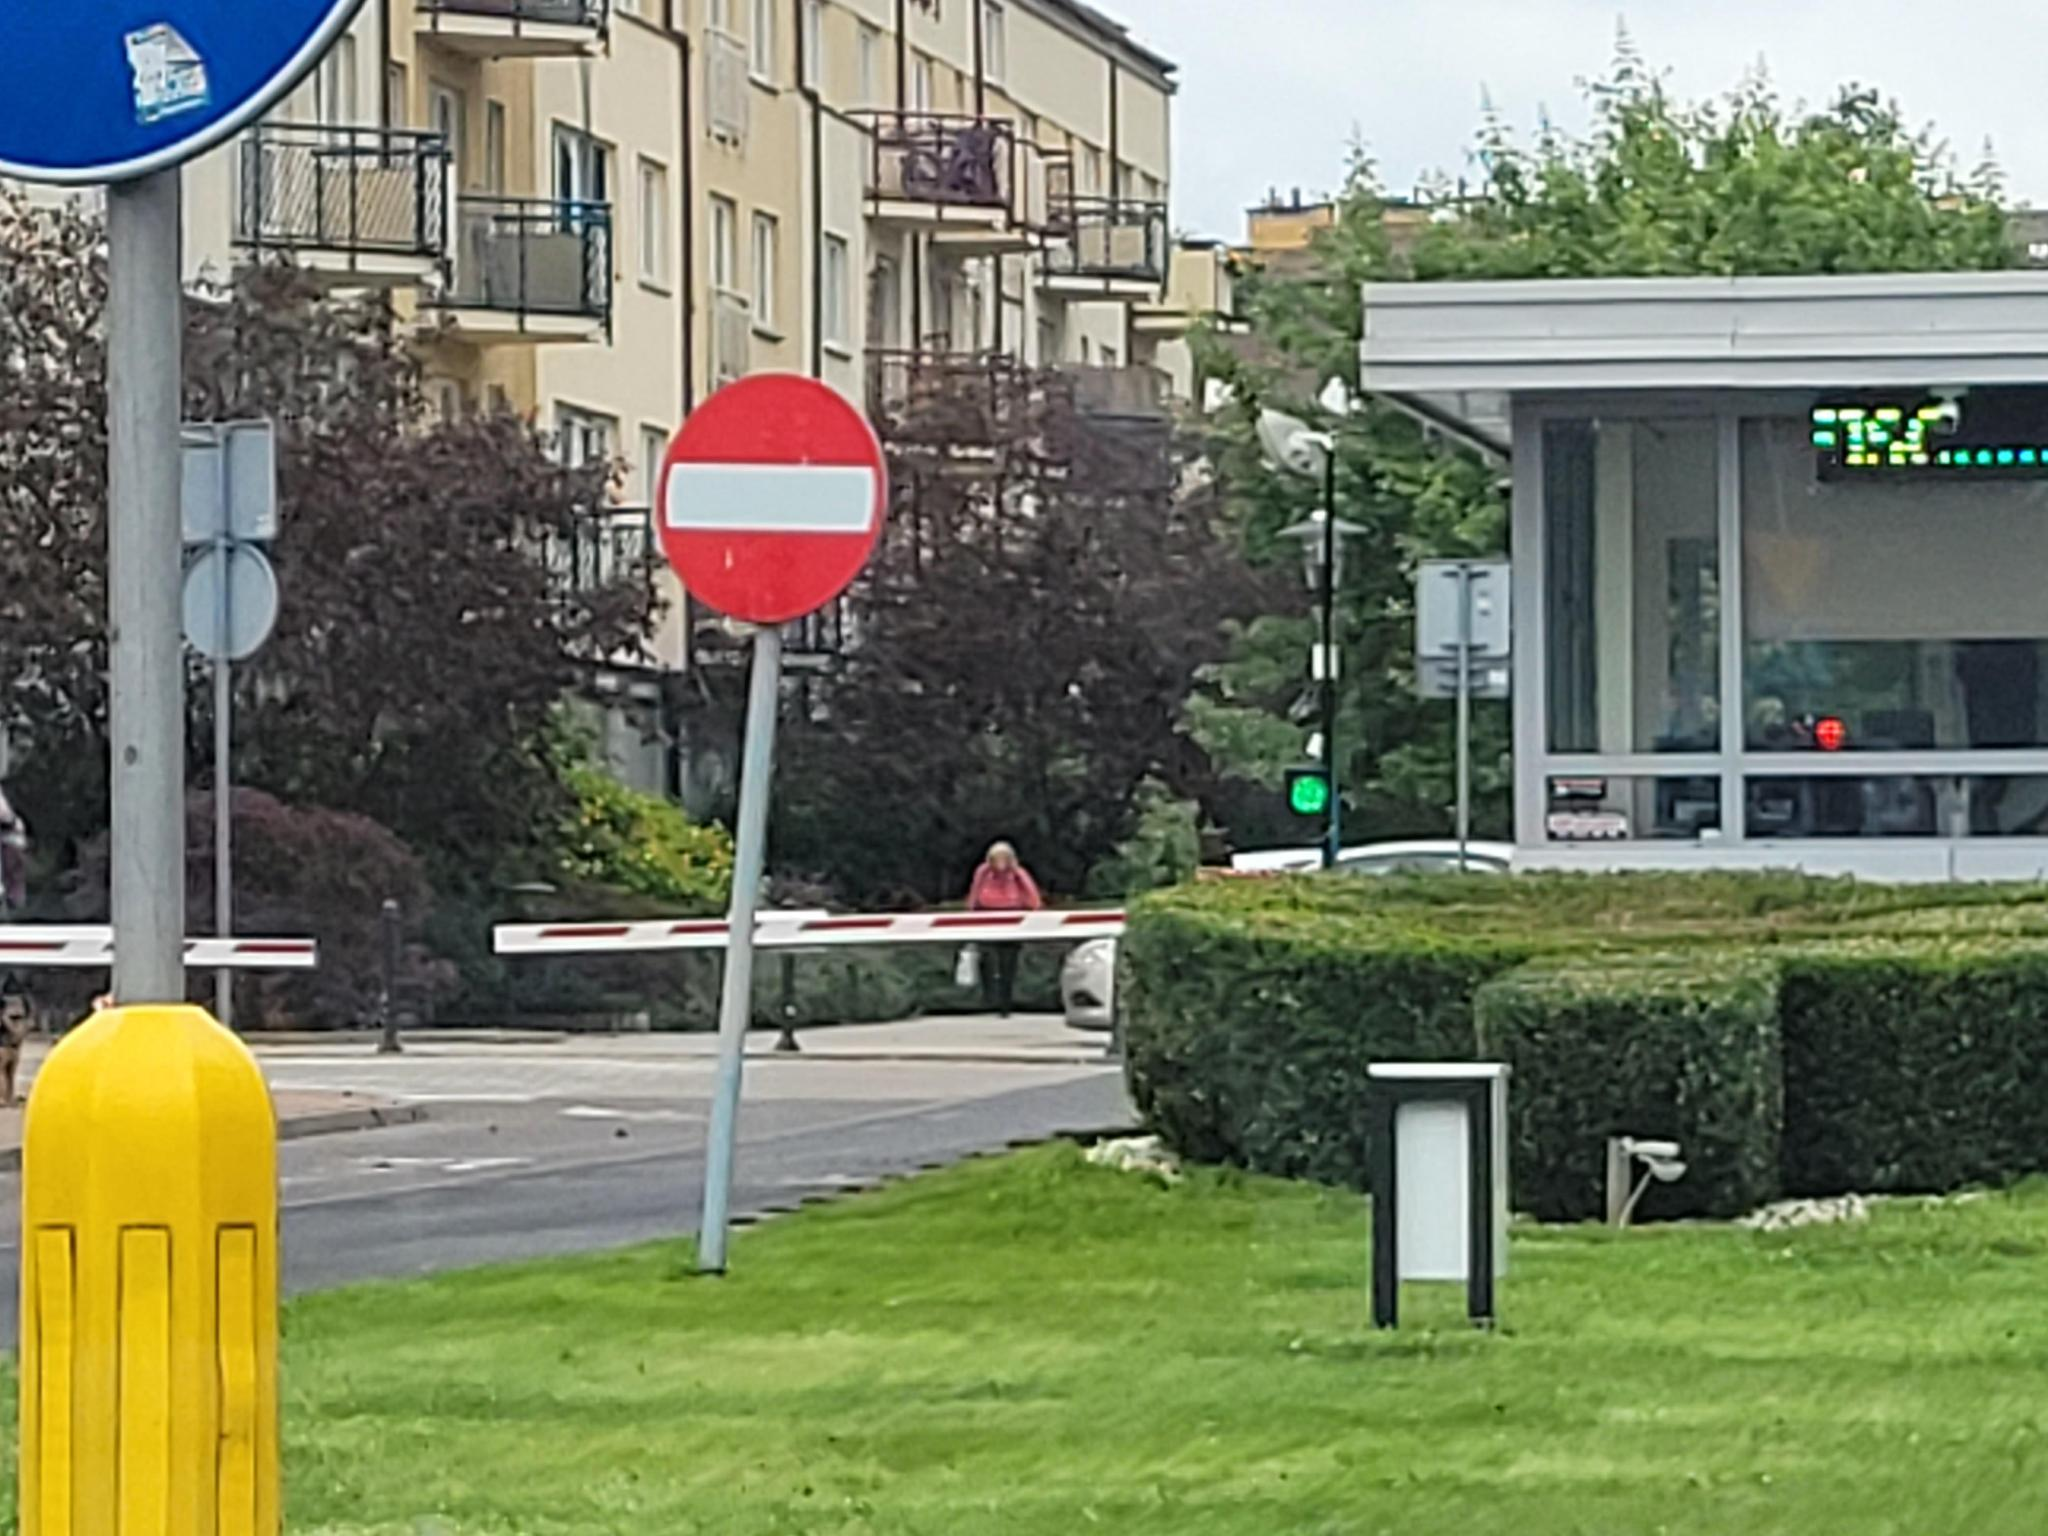mandatory: (0, 0, 376, 187)
prohibitory: (655, 371, 892, 628)
